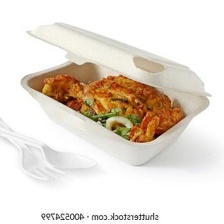foam_box: (15, 18, 217, 168)
